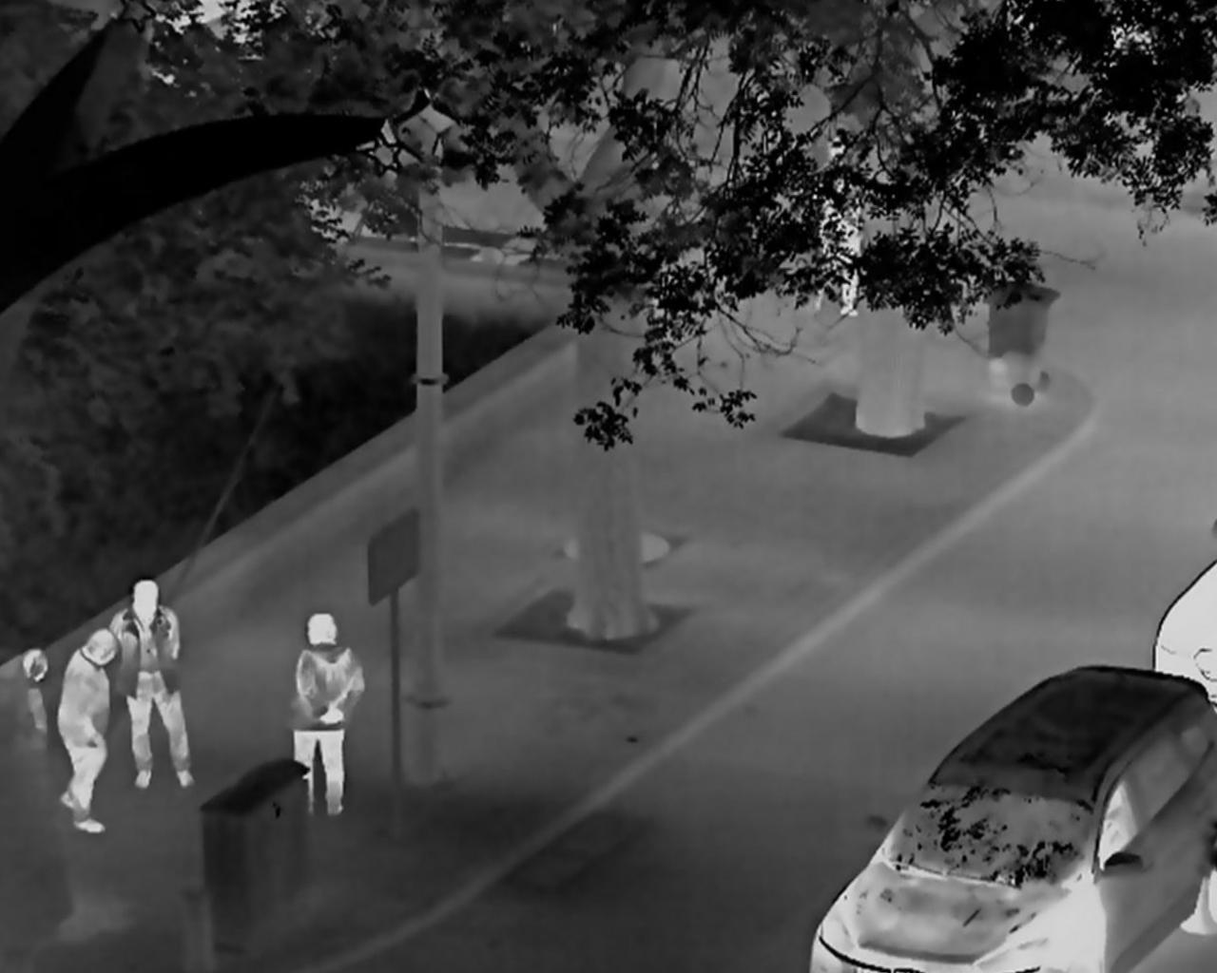person: (107, 577, 196, 791), (283, 611, 366, 820), (55, 626, 118, 835), (811, 137, 861, 317), (13, 648, 50, 752)
